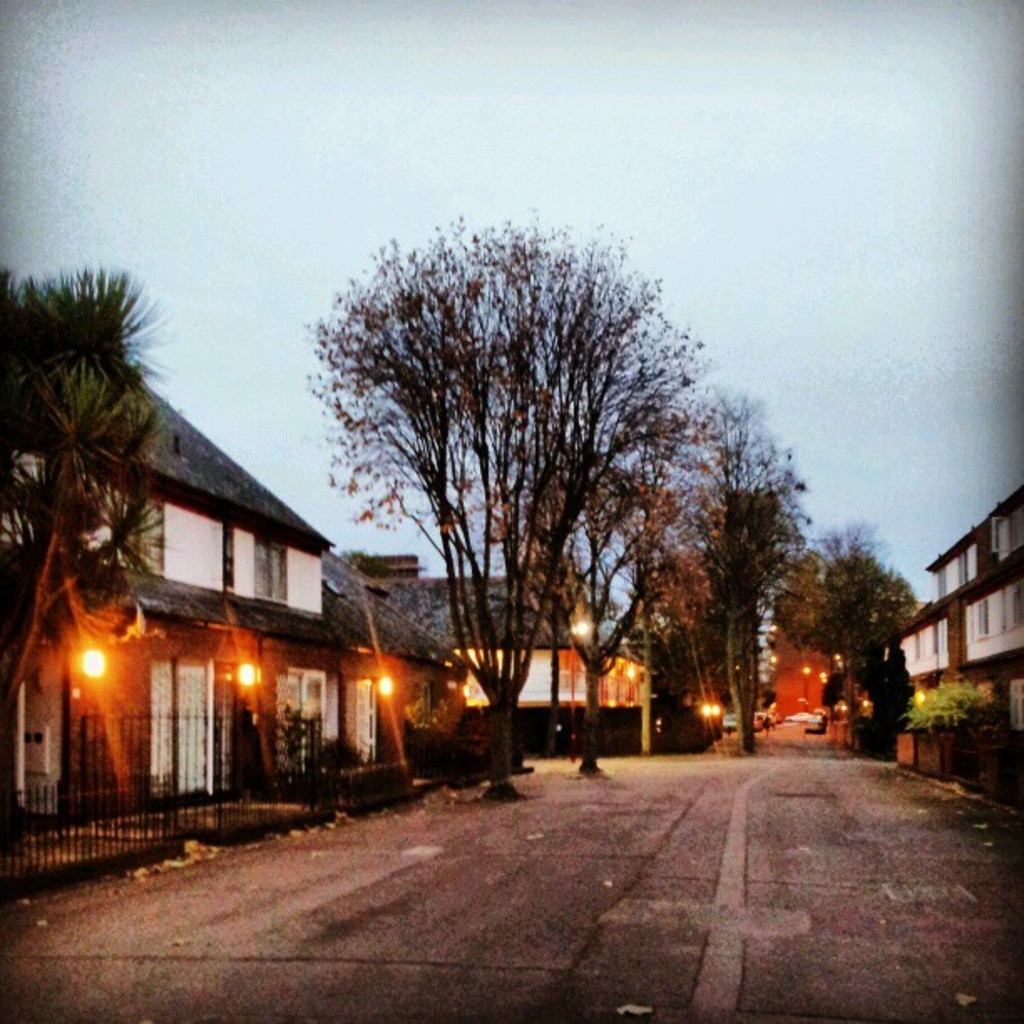Tree: (322, 200, 754, 783), (5, 264, 174, 754), (640, 389, 811, 766), (776, 518, 921, 744)
